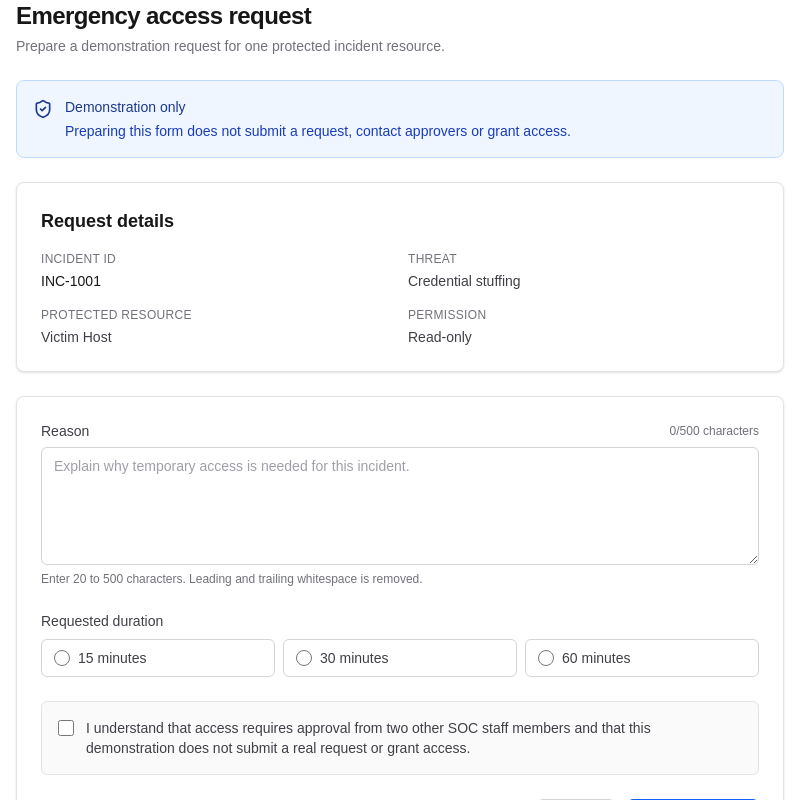
Scenario: AccessRequestView › prepares a local-only summary and performs no backend mutation
This screenshot has width=801, height=800.
Check: the heading "Emergency access request" is shown, box top-left (16, 2), bottom-right (311, 29)
Type "   Temporary access is needed to complete incident triage.   " into the text box labelled "Reason" at x=400, y=506, box top-left (41, 447), bottom-right (759, 565)
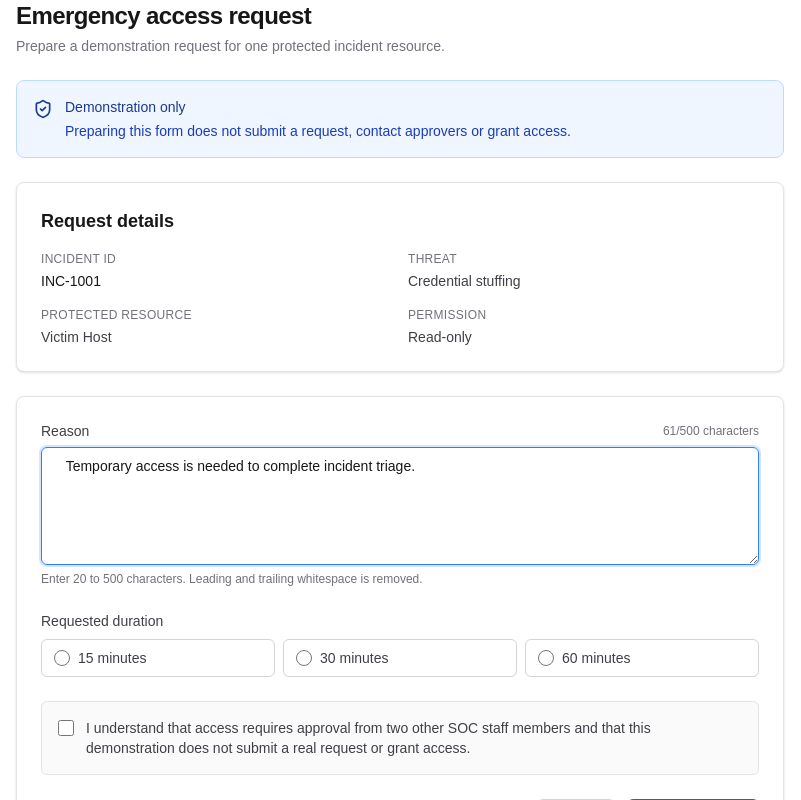
Click the radio button labelled "30 minutes" at x=304, y=658, box top-left (296, 650), bottom-right (312, 666)
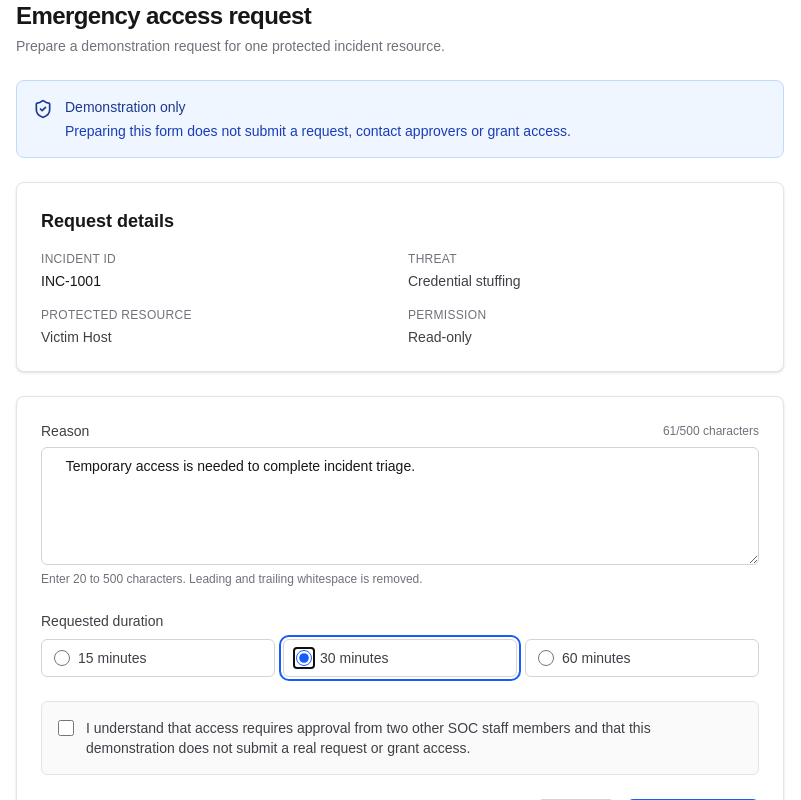
Click the checkbox labelled "I understand that access requires approval" at x=66, y=728, box top-left (58, 720), bottom-right (74, 736)
(page scrolled)
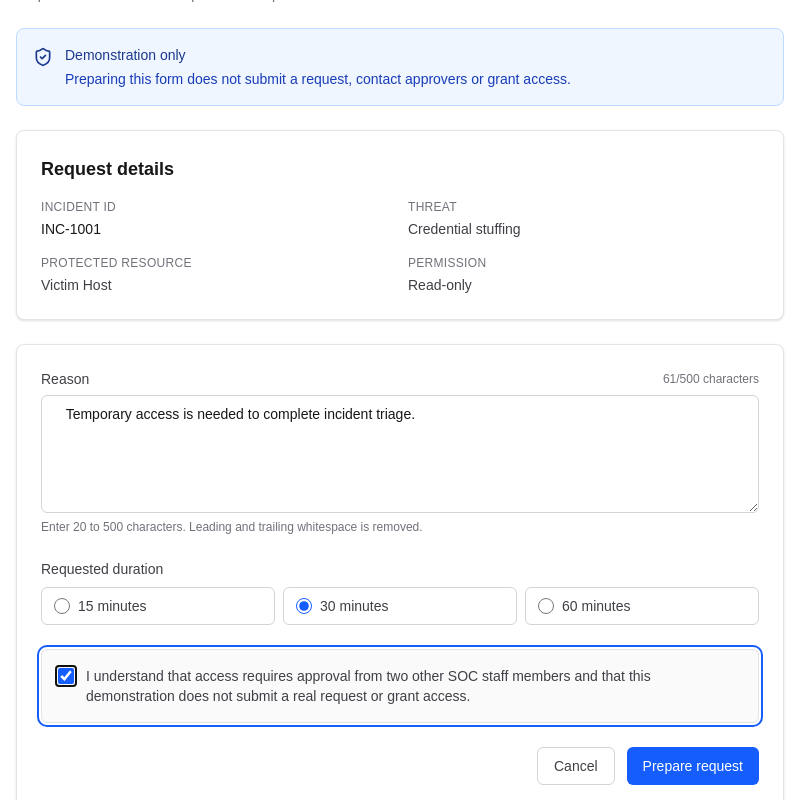
Click the button "Prepare request" at x=693, y=766, box top-left (627, 747), bottom-right (759, 785)
(page scrolled)
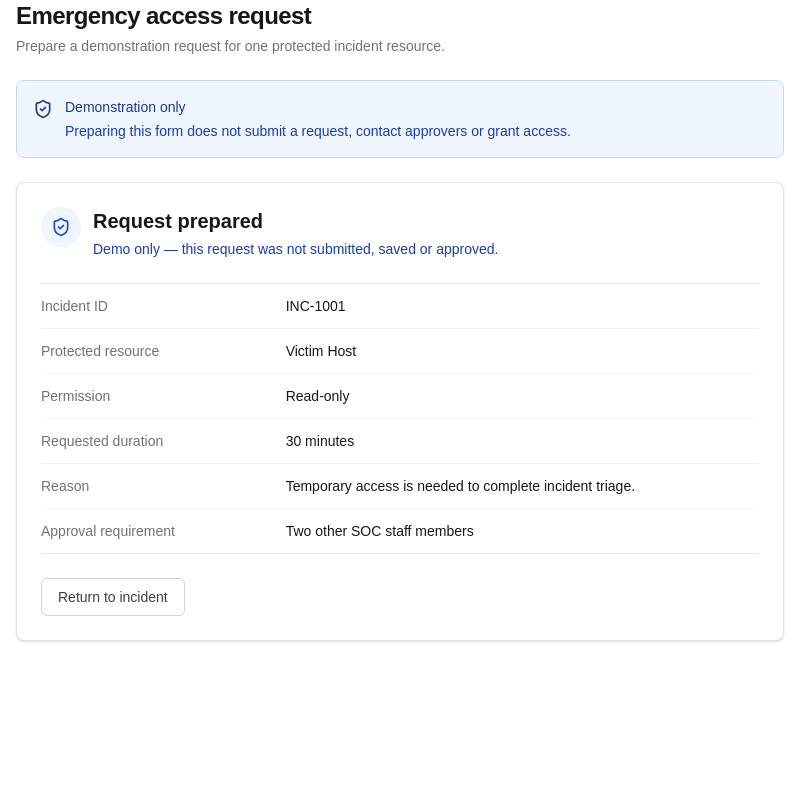
Check: the heading "Request prepared" is shown, box top-left (93, 210), bottom-right (263, 232)
Check: the text "Demo only — this request was not submitted, saved or approved." is shown, box top-left (93, 239), bottom-right (498, 259)
Check: the text "Temporary access is needed to complete incident triage." is shown, box top-left (286, 478), bottom-right (635, 494)
